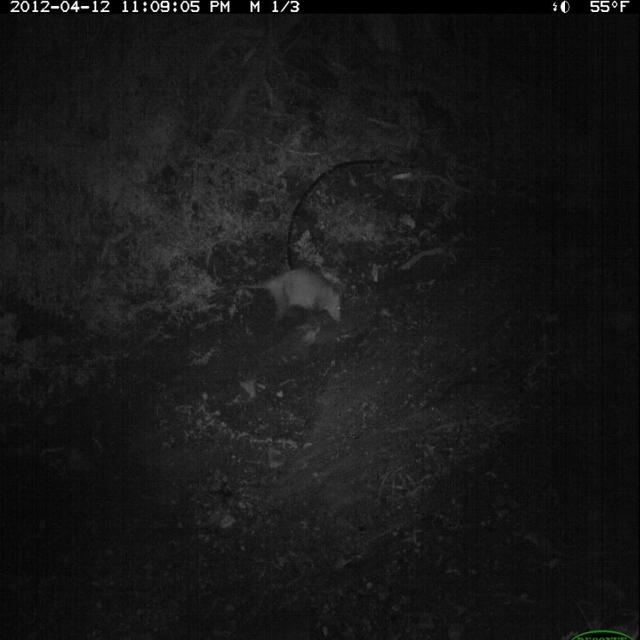opossum: (238, 260, 346, 332)
